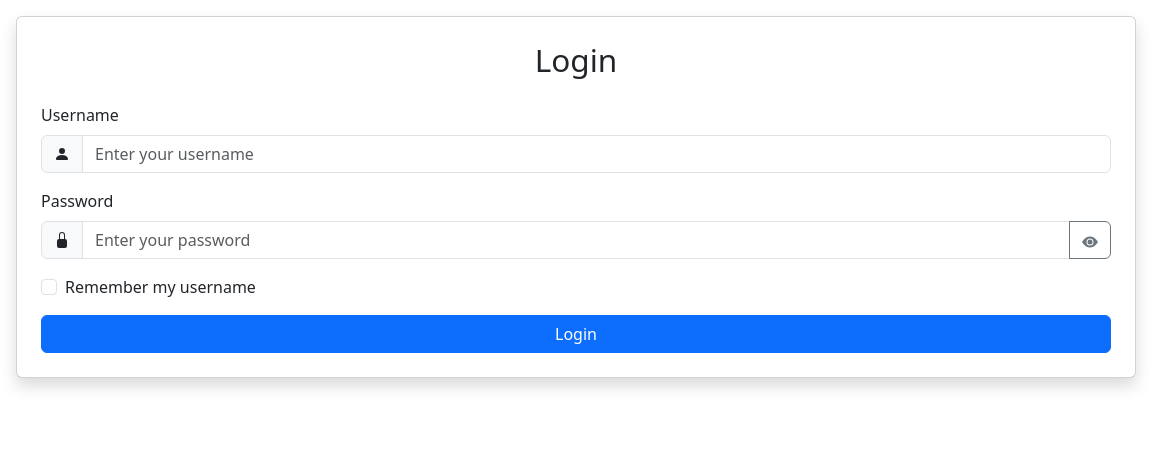
Scenario: Login Component › displays validation errors on submit with empty fields
This screenshot has width=1152, height=457.
Click the button "Login" at (576,334), box [41,315,1111,353]
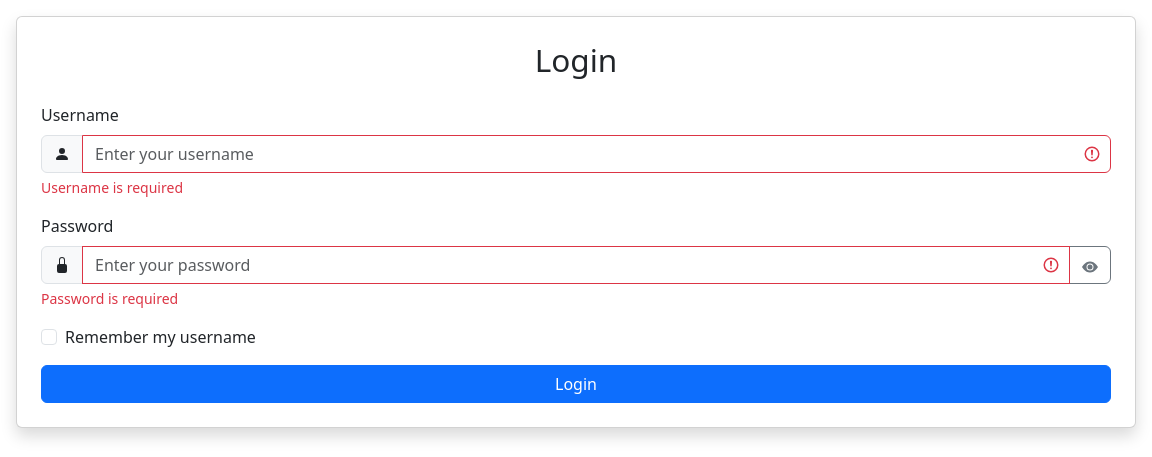
Expected: the text "Username is required" is shown, [41,178,183,197]
Expected: the text "Password is required" is shown, [41,289,178,308]
